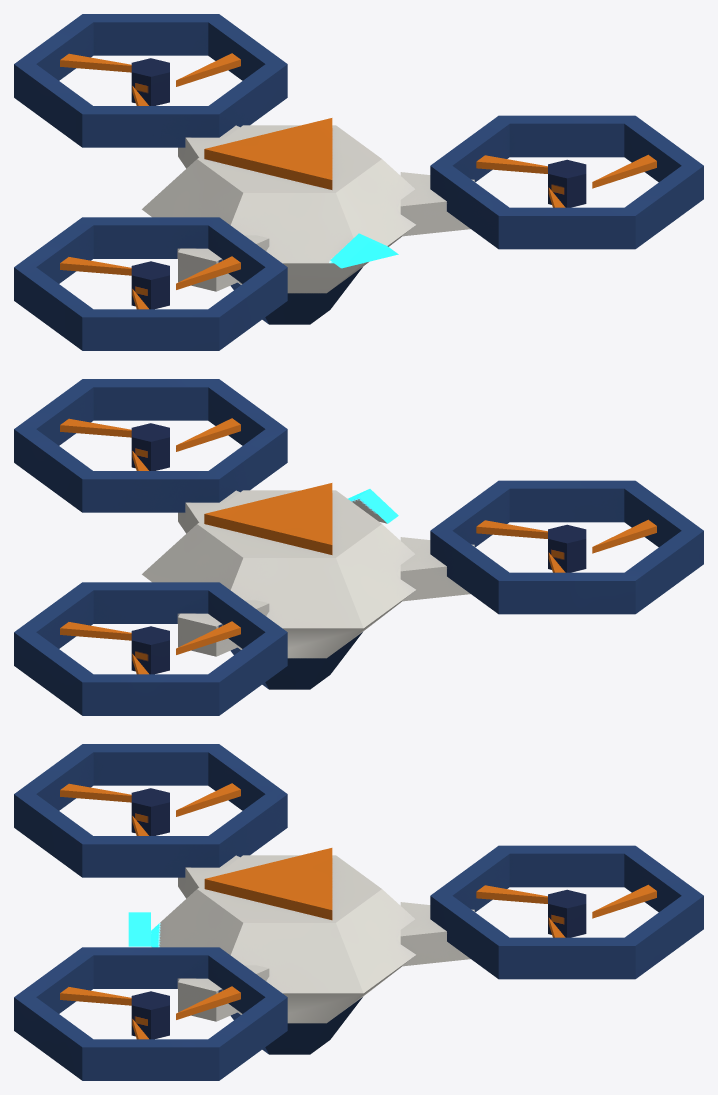
Rendered from FlyingDrone_LOD1.glb.
The picture shows the model from 3 angles, top to bottom: view 1: azimuth 30°, elevation 25°; view 2: azimuth 150°, elevation 25°; view 3: azimuth 270°, elevation 25°; orthographic projection.
Visible parts, largest first — view 1: FlyingDrone_LOD1; view 2: FlyingDrone_LOD1; view 3: FlyingDrone_LOD1.
Part boxes in pixels (box(x1,y1,x2,y2)): FlyingDrone_LOD1: box(14, 14, 703, 350); FlyingDrone_LOD1: box(14, 379, 703, 715); FlyingDrone_LOD1: box(14, 744, 703, 1080).
Bounding box in the file's own units: 0.388 × 0.096 × 0.373.
1 material, 1 textured.
